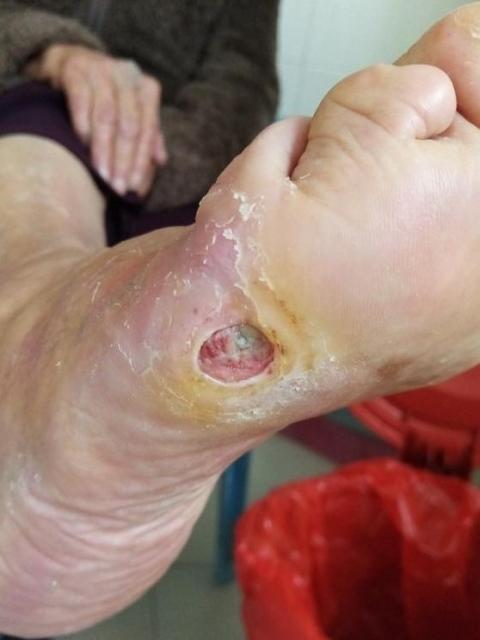wound: (194, 318, 280, 386)
